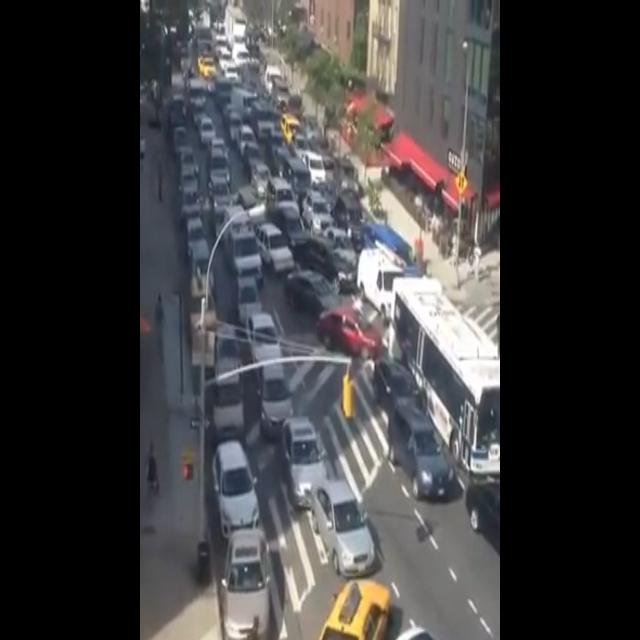Ambulance: (220, 205, 265, 286)
